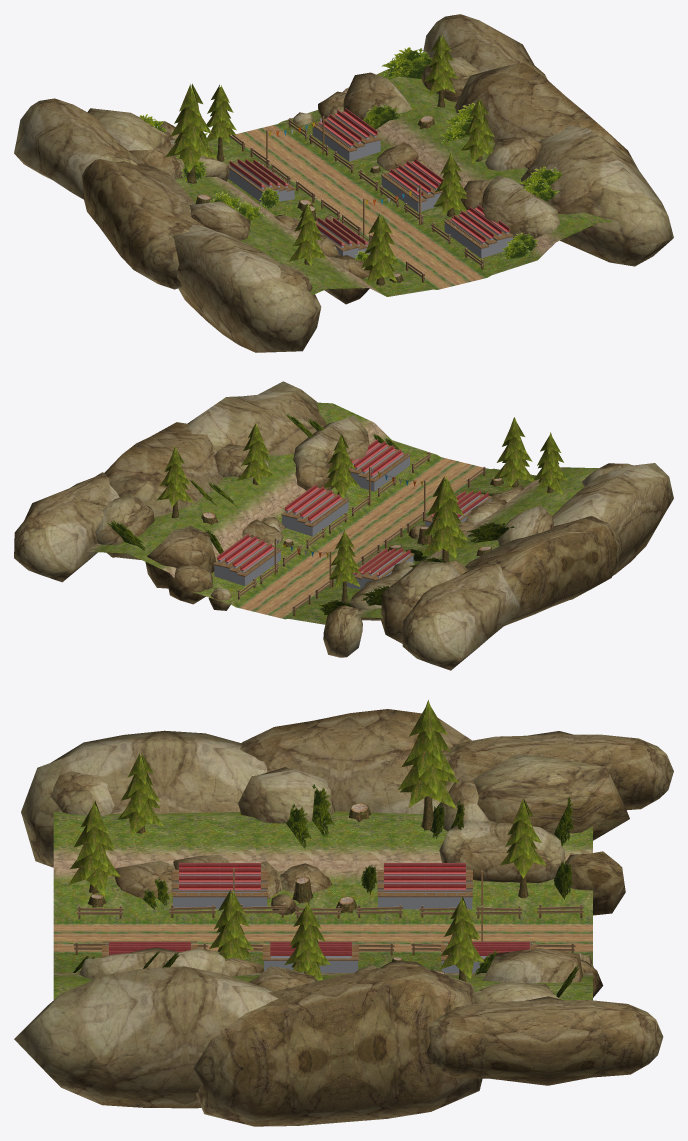
Rendered from BikeRoad014.FBX.
3 views of the same model, one above another, from view 1: azimuth 30°, elevation 25°; view 2: azimuth 150°, elevation 25°; view 3: azimuth 270°, elevation 25° (orthographic). The views are drawn at different scales.
Visible parts, largest first — view 1: Rock (×18), Ground, Tree (×7), Low_Chair (×5), GrassPlane (×2); view 2: Rock (×18), Ground, Tree (×7), Low_Chair (×5); view 3: Rock (×18), Ground, Tree (×7), Low_Chair (×5), GrassPlane.
Boxes of the visible parts, left/top/right/bottom form: Rock (×18): left=14, top=14, right=673, bottom=352; Ground: left=175, top=69, right=613, bottom=296; Tree (×7): left=165, top=34, right=494, bottom=285; Low_Chair (×5): left=228, top=108, right=513, bottom=258; GrassPlane (×2): left=363, top=47, right=432, bottom=129; Rock (×18): left=14, top=381, right=673, bottom=670; Ground: left=86, top=402, right=598, bottom=624; Tree (×7): left=156, top=417, right=568, bottom=603; Low_Chair (×5): left=213, top=439, right=492, bottom=589; Rock (×18): left=14, top=709, right=673, bottom=1126; Ground: left=53, top=811, right=592, bottom=1000; Tree (×7): left=68, top=700, right=546, bottom=981; Low_Chair (×5): left=102, top=863, right=536, bottom=972; GrassPlane: left=312, top=784, right=333, bottom=837.
Size of the model in its own units: 5411 by 1758 by 4895.
